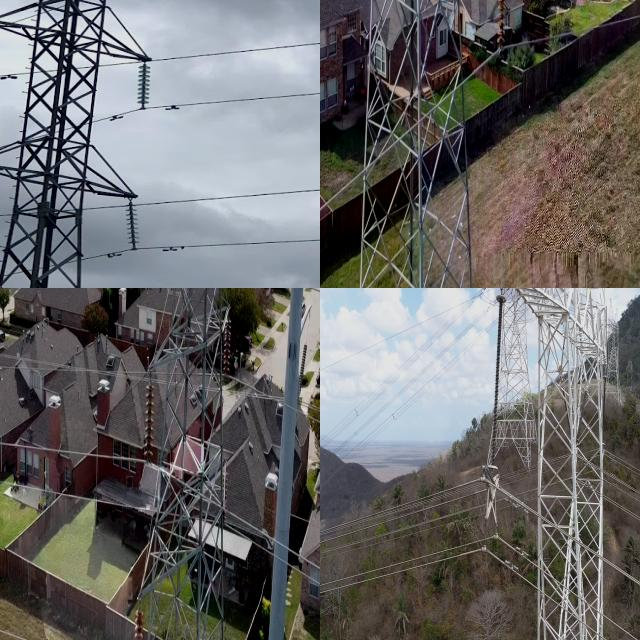杆塔: (0, 0, 177, 288), (339, 0, 507, 288), (130, 288, 251, 640), (503, 288, 608, 640)
正常电缆: (320, 300, 453, 376), (320, 531, 495, 587), (320, 474, 473, 538), (320, 545, 484, 595), (0, 469, 127, 519), (257, 522, 320, 592), (0, 431, 121, 464), (260, 383, 320, 432)
正常绝缘子: (487, 294, 507, 472), (141, 370, 158, 470), (489, 0, 510, 74), (132, 52, 156, 115), (122, 194, 144, 259), (222, 314, 235, 386), (130, 599, 147, 640), (600, 374, 607, 447)
